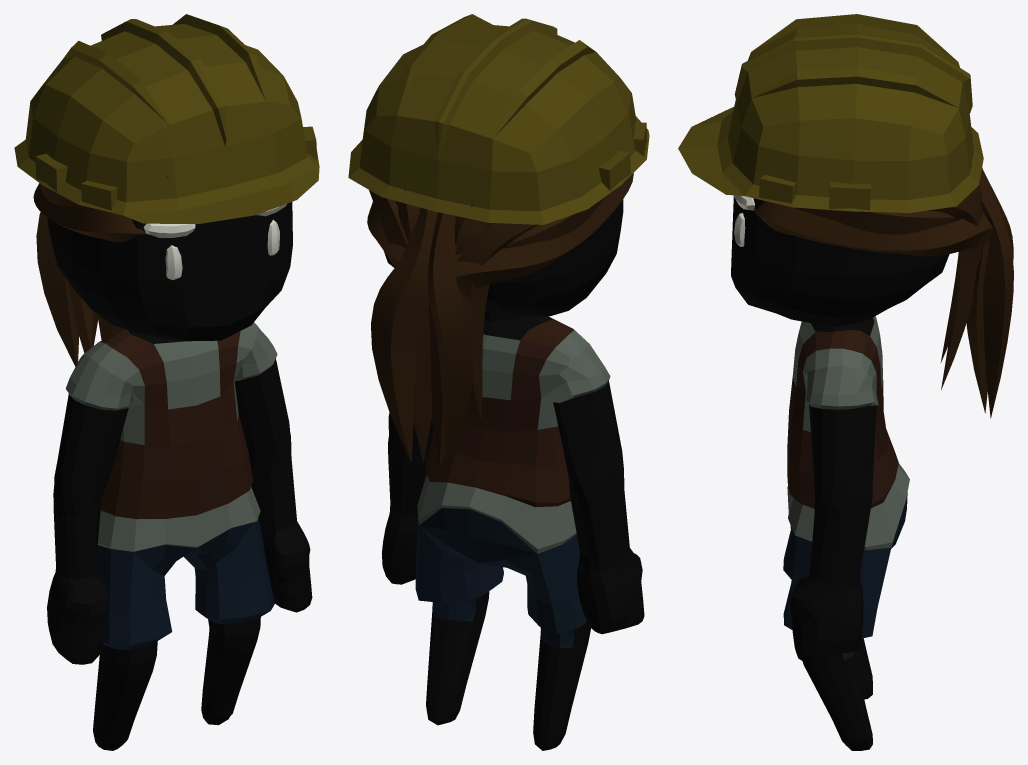
The model's file is Worker_Female.obj.
The picture shows the model from 3 angles, left to right: view 1: azimuth 30°, elevation 25°; view 2: azimuth 150°, elevation 25°; view 3: azimuth 270°, elevation 25°; orthographic projection.
Visible parts, largest first — view 1: Body_Cube.004; view 2: Body_Cube.004; view 3: Body_Cube.004.
Boxes of the visible parts, <box> form: Body_Cube.004: <box>14,14,319,750</box>; Body_Cube.004: <box>348,14,649,750</box>; Body_Cube.004: <box>678,14,1013,750</box>.
Size of the model in its own units: 1.27 by 3.38 by 1.49.
